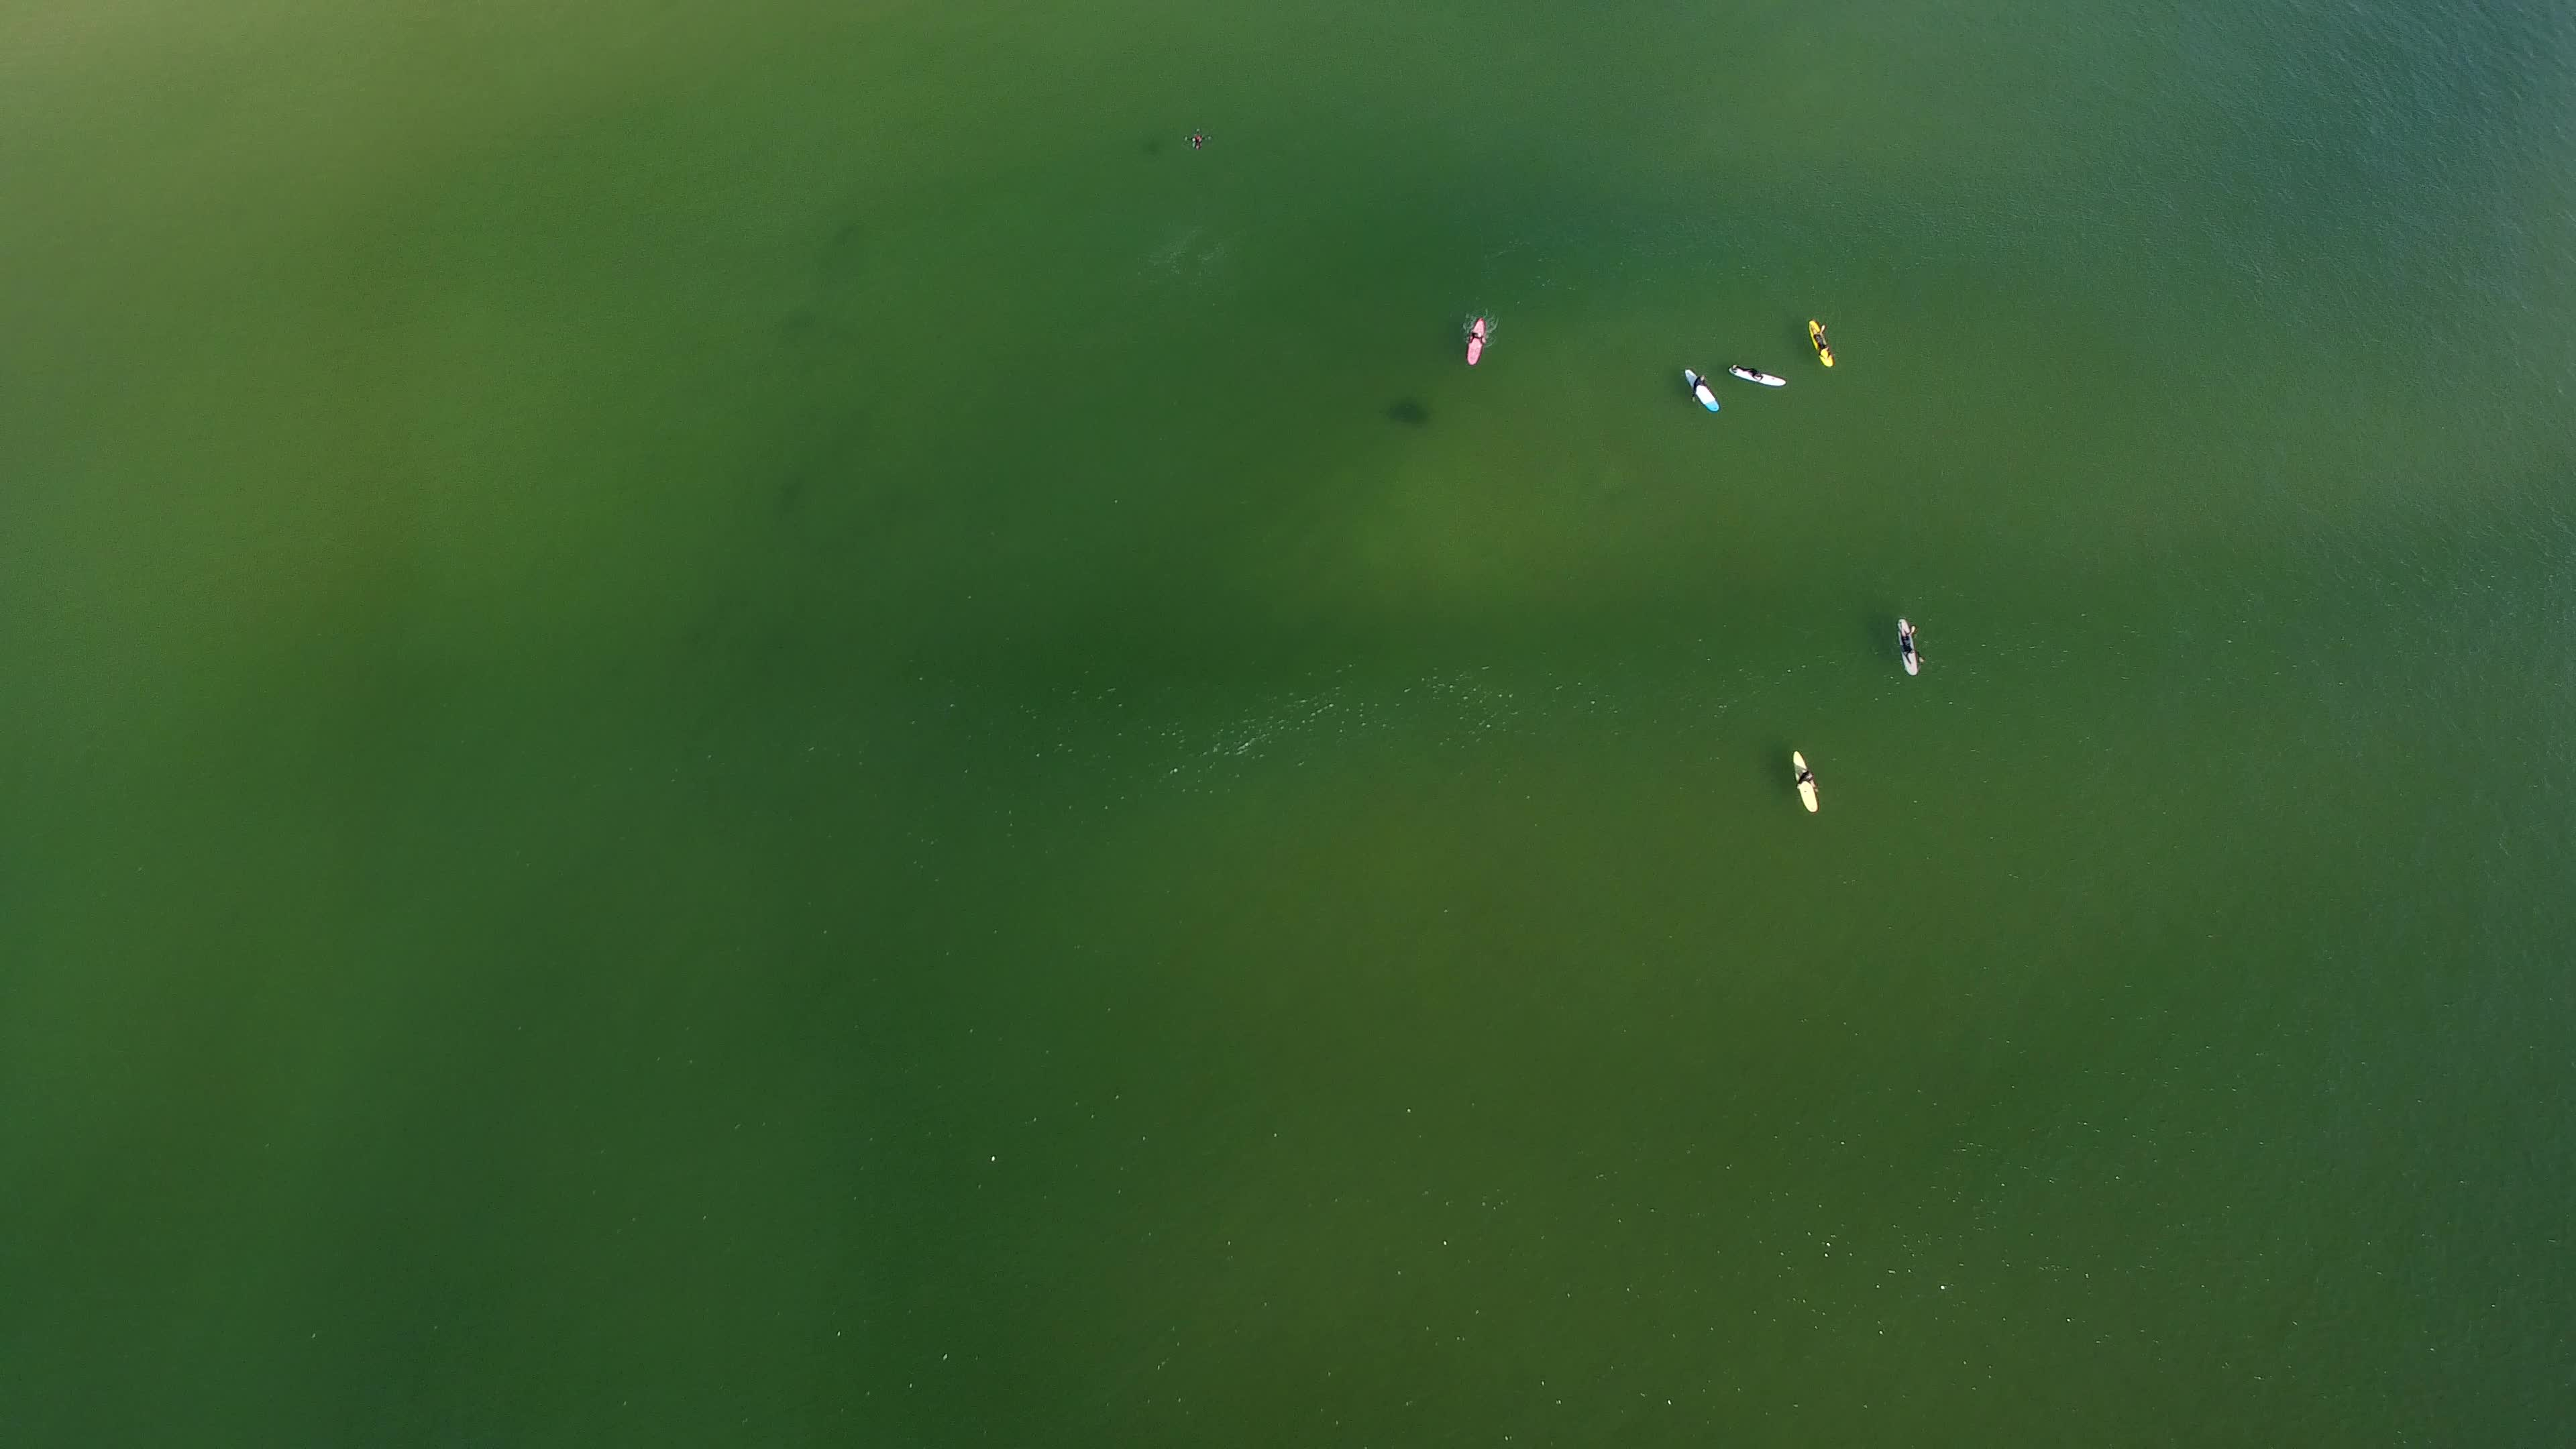surfer: (1884, 614, 1934, 686), (1780, 743, 1826, 821), (1675, 364, 1727, 421), (1727, 354, 1796, 391), (1460, 310, 1495, 372), (1803, 320, 1844, 372)
